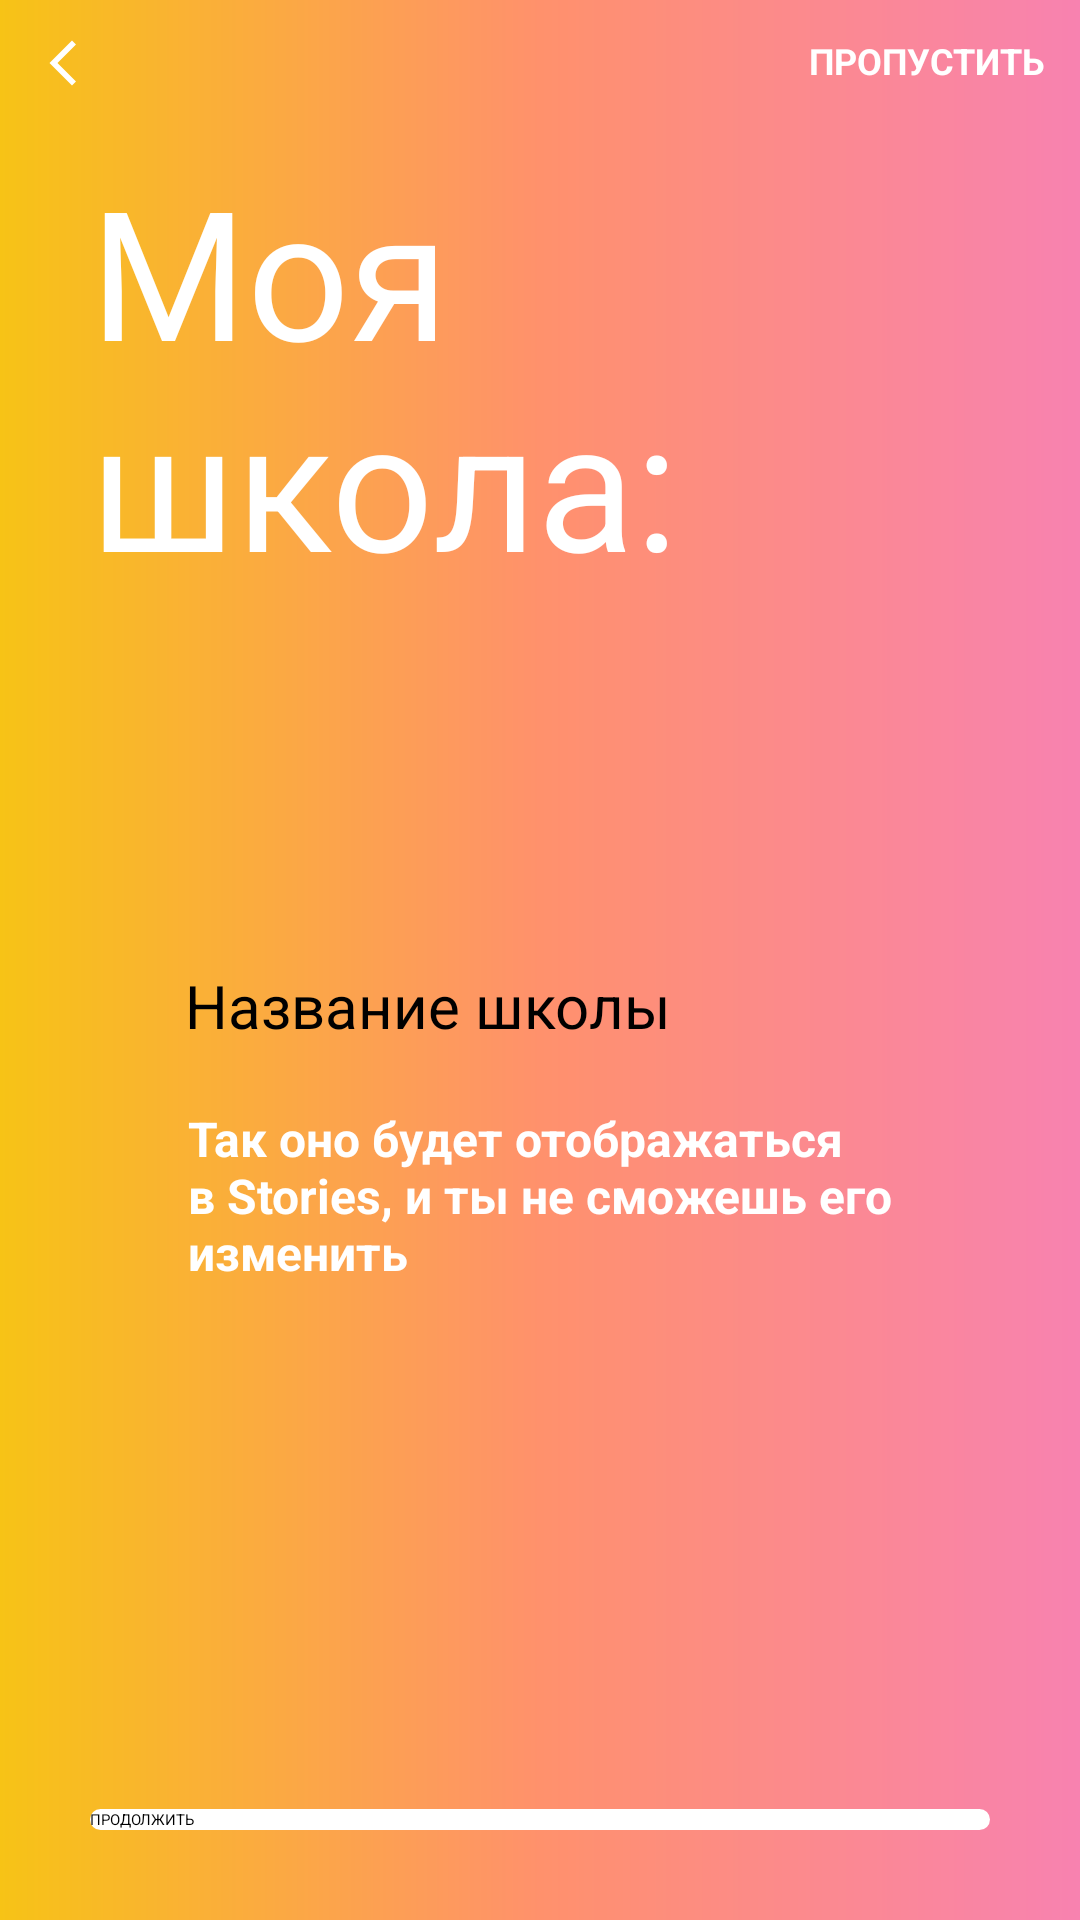

Named icons in this screenshot (1080px×1920px) and their centers, (x,y):
back: (63,63)
